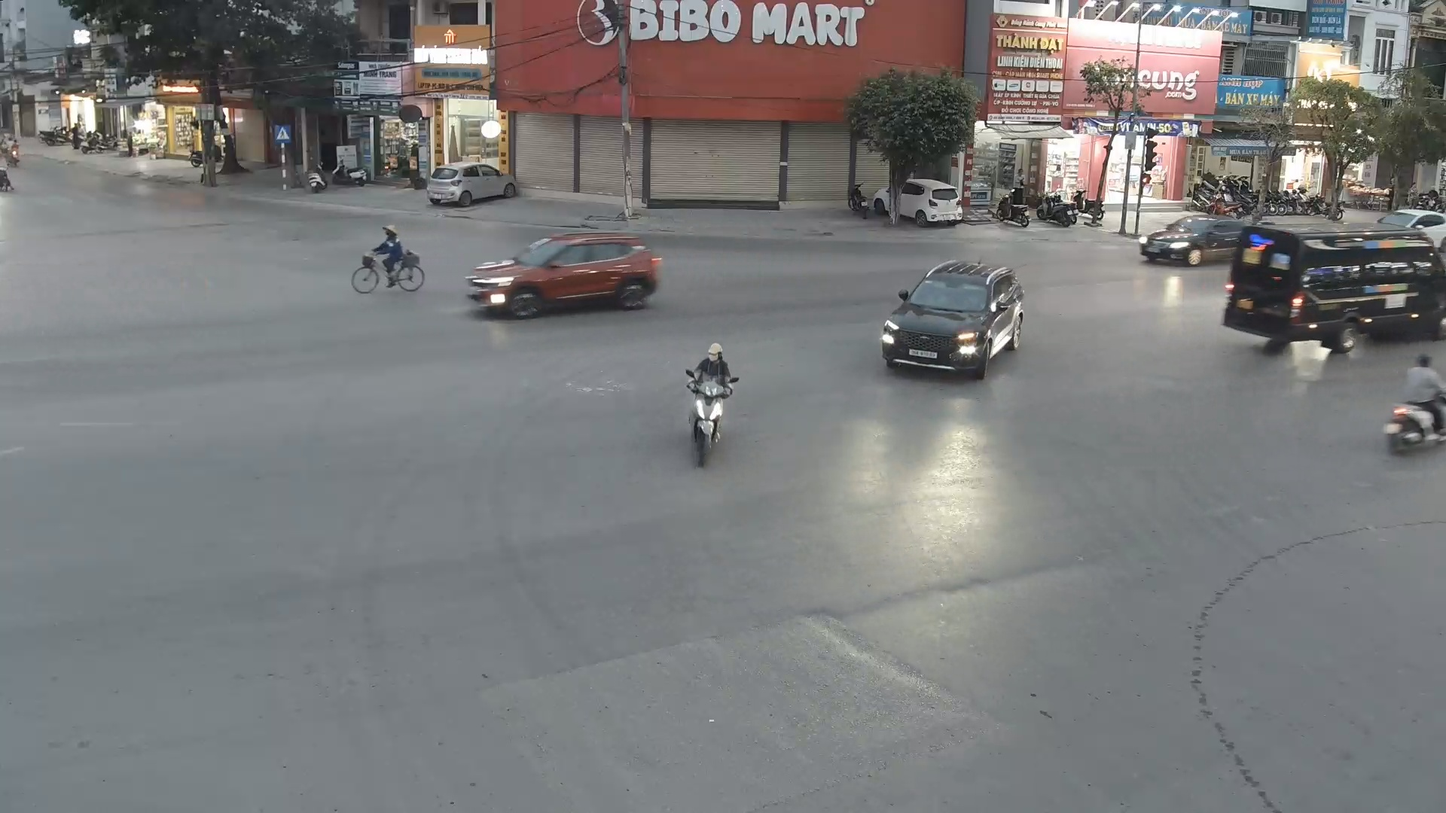car: (1222, 224, 1445, 356), (464, 227, 663, 320), (879, 261, 1025, 380), (1138, 212, 1252, 268), (426, 161, 520, 208)
motorbike: (682, 341, 736, 469), (1382, 353, 1445, 457), (348, 223, 427, 296)
